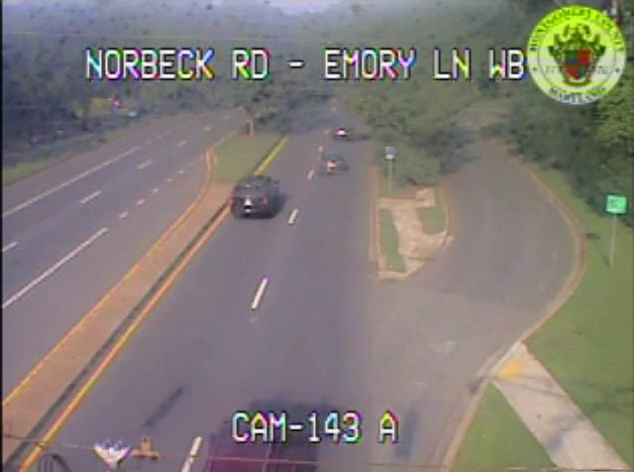car: (230, 178, 275, 218)
